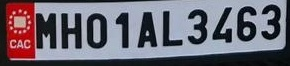character: (33, 11, 56, 50), (60, 11, 82, 49), (136, 10, 157, 49), (85, 12, 107, 49), (186, 7, 208, 44), (162, 9, 183, 47), (211, 6, 232, 43), (236, 5, 257, 42), (260, 4, 281, 40), (114, 11, 129, 49)
